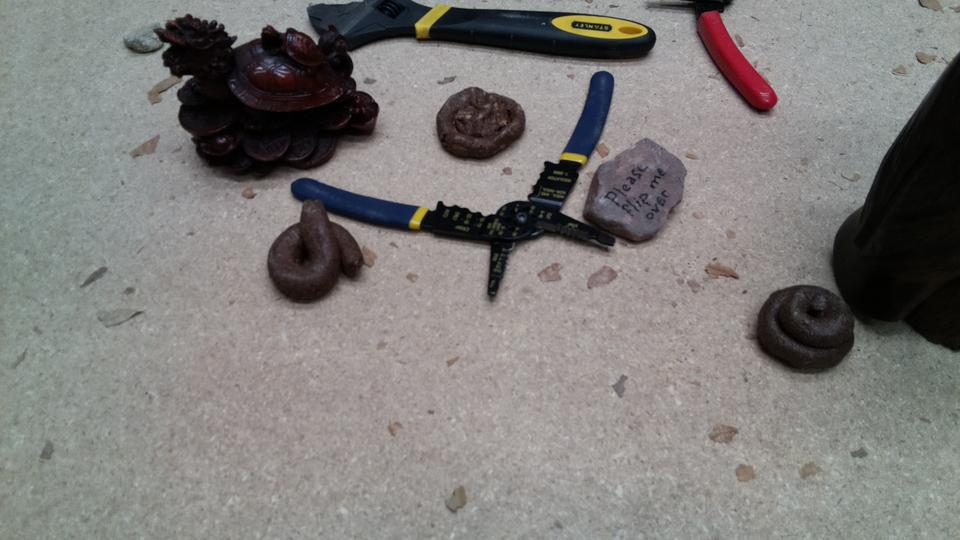poop: (263, 195, 368, 307), (750, 279, 861, 379), (433, 82, 532, 164)
